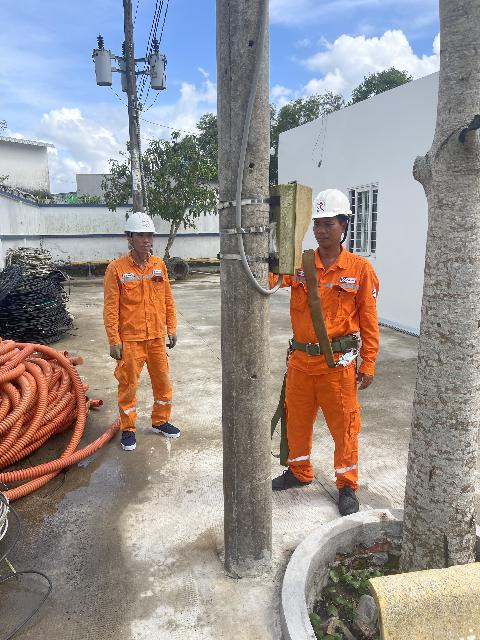gloves: (106, 339, 126, 365), (161, 332, 179, 349)
harness: (276, 327, 363, 367)
helmet: (311, 187, 356, 224), (123, 210, 160, 237)
shoes: (328, 477, 363, 518), (260, 470, 316, 492), (144, 422, 184, 441), (117, 429, 145, 452)
